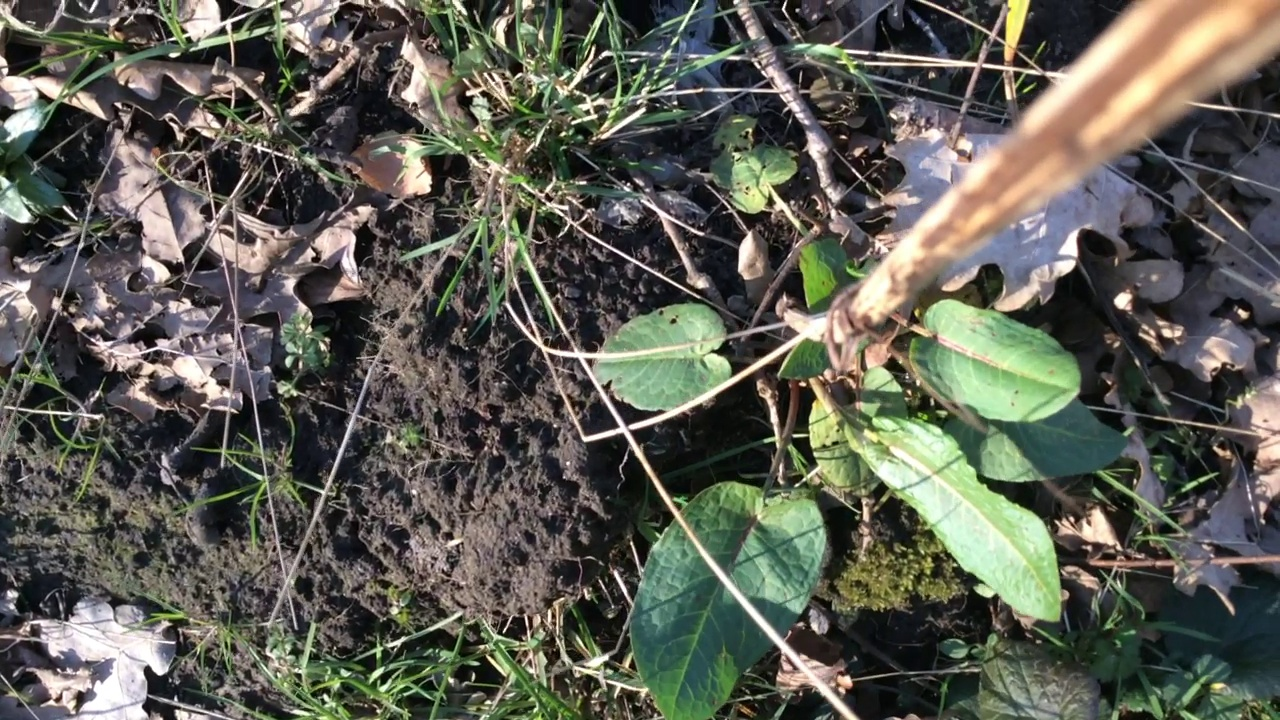rumex: (592, 115, 1131, 720)
